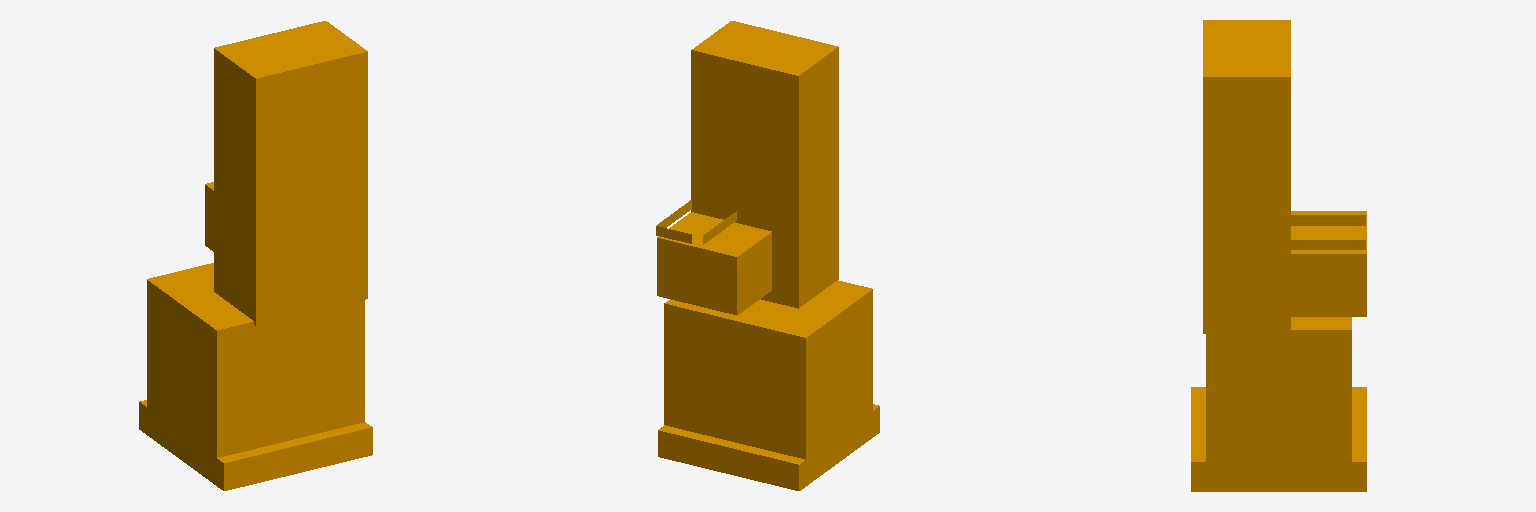
The robot description file, URDF, robot "engine1.off":
<?xml version="1.0"?>
<robot name="engine1.off">
	<link name="engine1.off">
		<inertial>
			<!--origin xyz="0 0 0" rpy="0 0 0" /-->
			<mass value="0.5" />
			<!--inertia ixx="0.000360" ixy="0" ixz="0" iyy="0.0000615" iyz="0" izz="0.00036" /-->
		</inertial>
    		<visual>
	      		<!--origin rpy="0 0 0" xyz="0 0 0"/-->
      			<geometry>
        			<mesh filename="engine1.off.obj"/>
      			</geometry>
         	</visual>
    		<collision>
      			<!--origin rpy="0 0 0" xyz="0 0 0"/-->
      			<geometry>
        			<mesh filename="engine1.off.obj"/>
      			</geometry>
    		</collision>
	</link>
</robot>

--- Render facts (derived) ---
3 views of the same robot in one strip: view 1: azimuth 30°, elevation 25°; view 2: azimuth 150°, elevation 25°; view 3: azimuth 270°, elevation 25° (orthographic).
Model engine1.off with 1 links and 0 joints (none), rooted at engine1.off, posed all joints at 0.
Visible links, largest first — view 1: engine1.off; view 2: engine1.off; view 3: engine1.off.
Link boxes in pixels (x1,y1,x2,y2): engine1.off: (139, 21, 372, 490); engine1.off: (656, 21, 879, 490); engine1.off: (1191, 20, 1366, 491).
Bounding box of the posed robot: 0.614 × 0.608 × 1.56 m (x, y, z).
Meshes: 1 distinct files referenced, 1 mesh visuals loaded (1 OBJ).